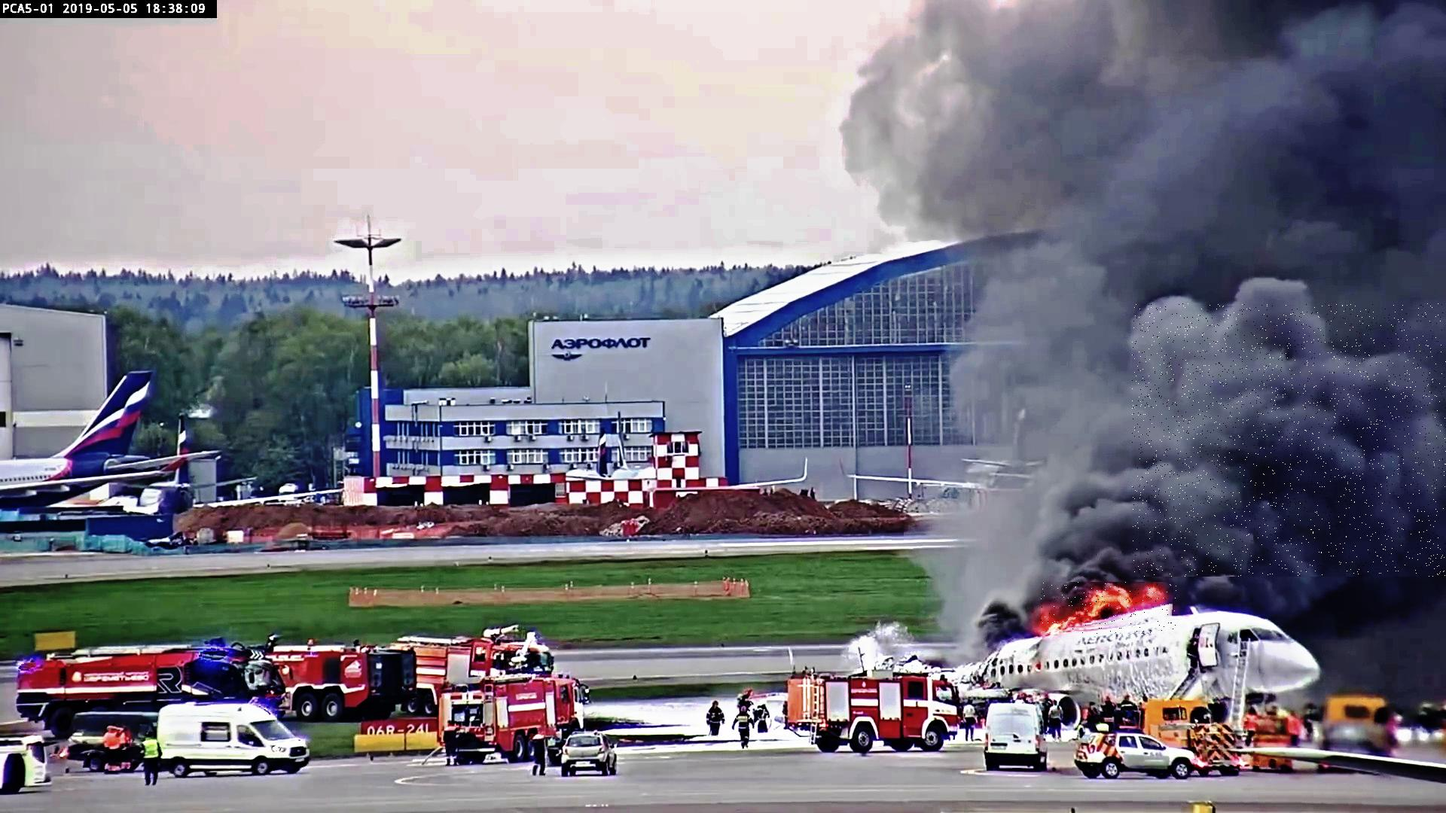fire: (1042, 582, 1177, 634)
smoke: (1132, 303, 1446, 577)
